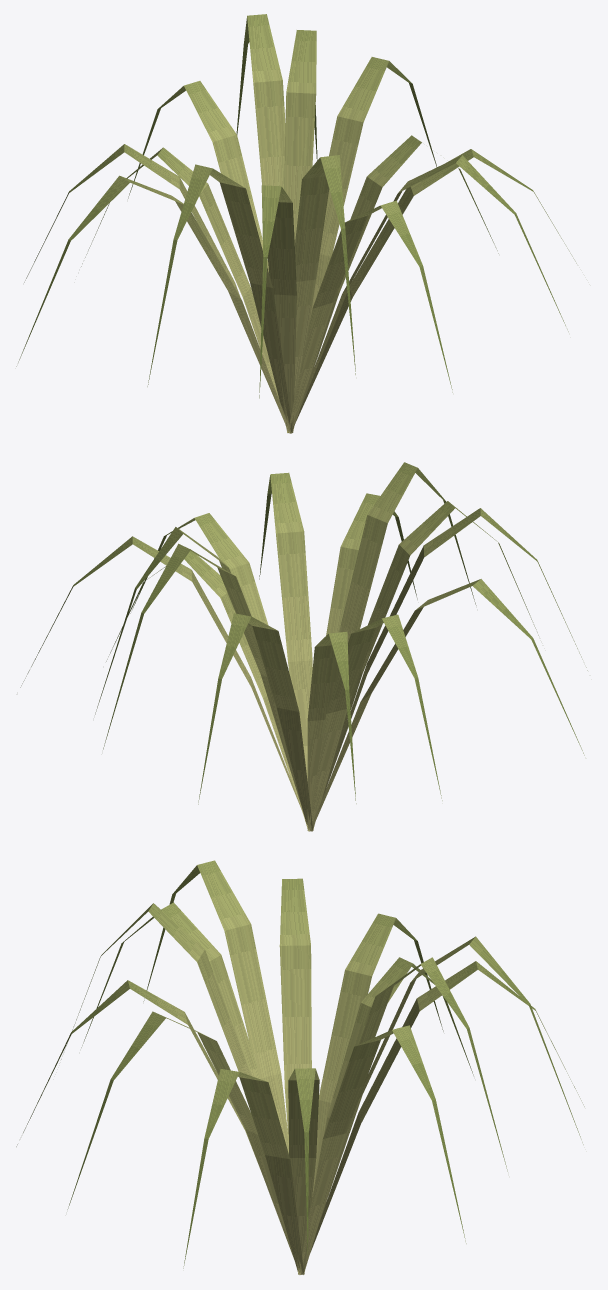
File: dune_grass.glb
3 renders of one model, top to bottom at view 1: azimuth 30°, elevation 25°; view 2: azimuth 150°, elevation 25°; view 3: azimuth 270°, elevation 25°, orthographic. The views are drawn at different scales.
Parts seen in each view (by area): view 1: dune_grass; view 2: dune_grass; view 3: dune_grass.
Boxes of the visible parts, box(x1,y1,x2,y2) form: dune_grass: box(16, 14, 576, 433); dune_grass: box(20, 462, 587, 831); dune_grass: box(16, 860, 584, 1274).
Bounding box in the file's own units: 0.7689 × 0.4793 × 0.7026.
Materials: 1 (1 with a texture image).
